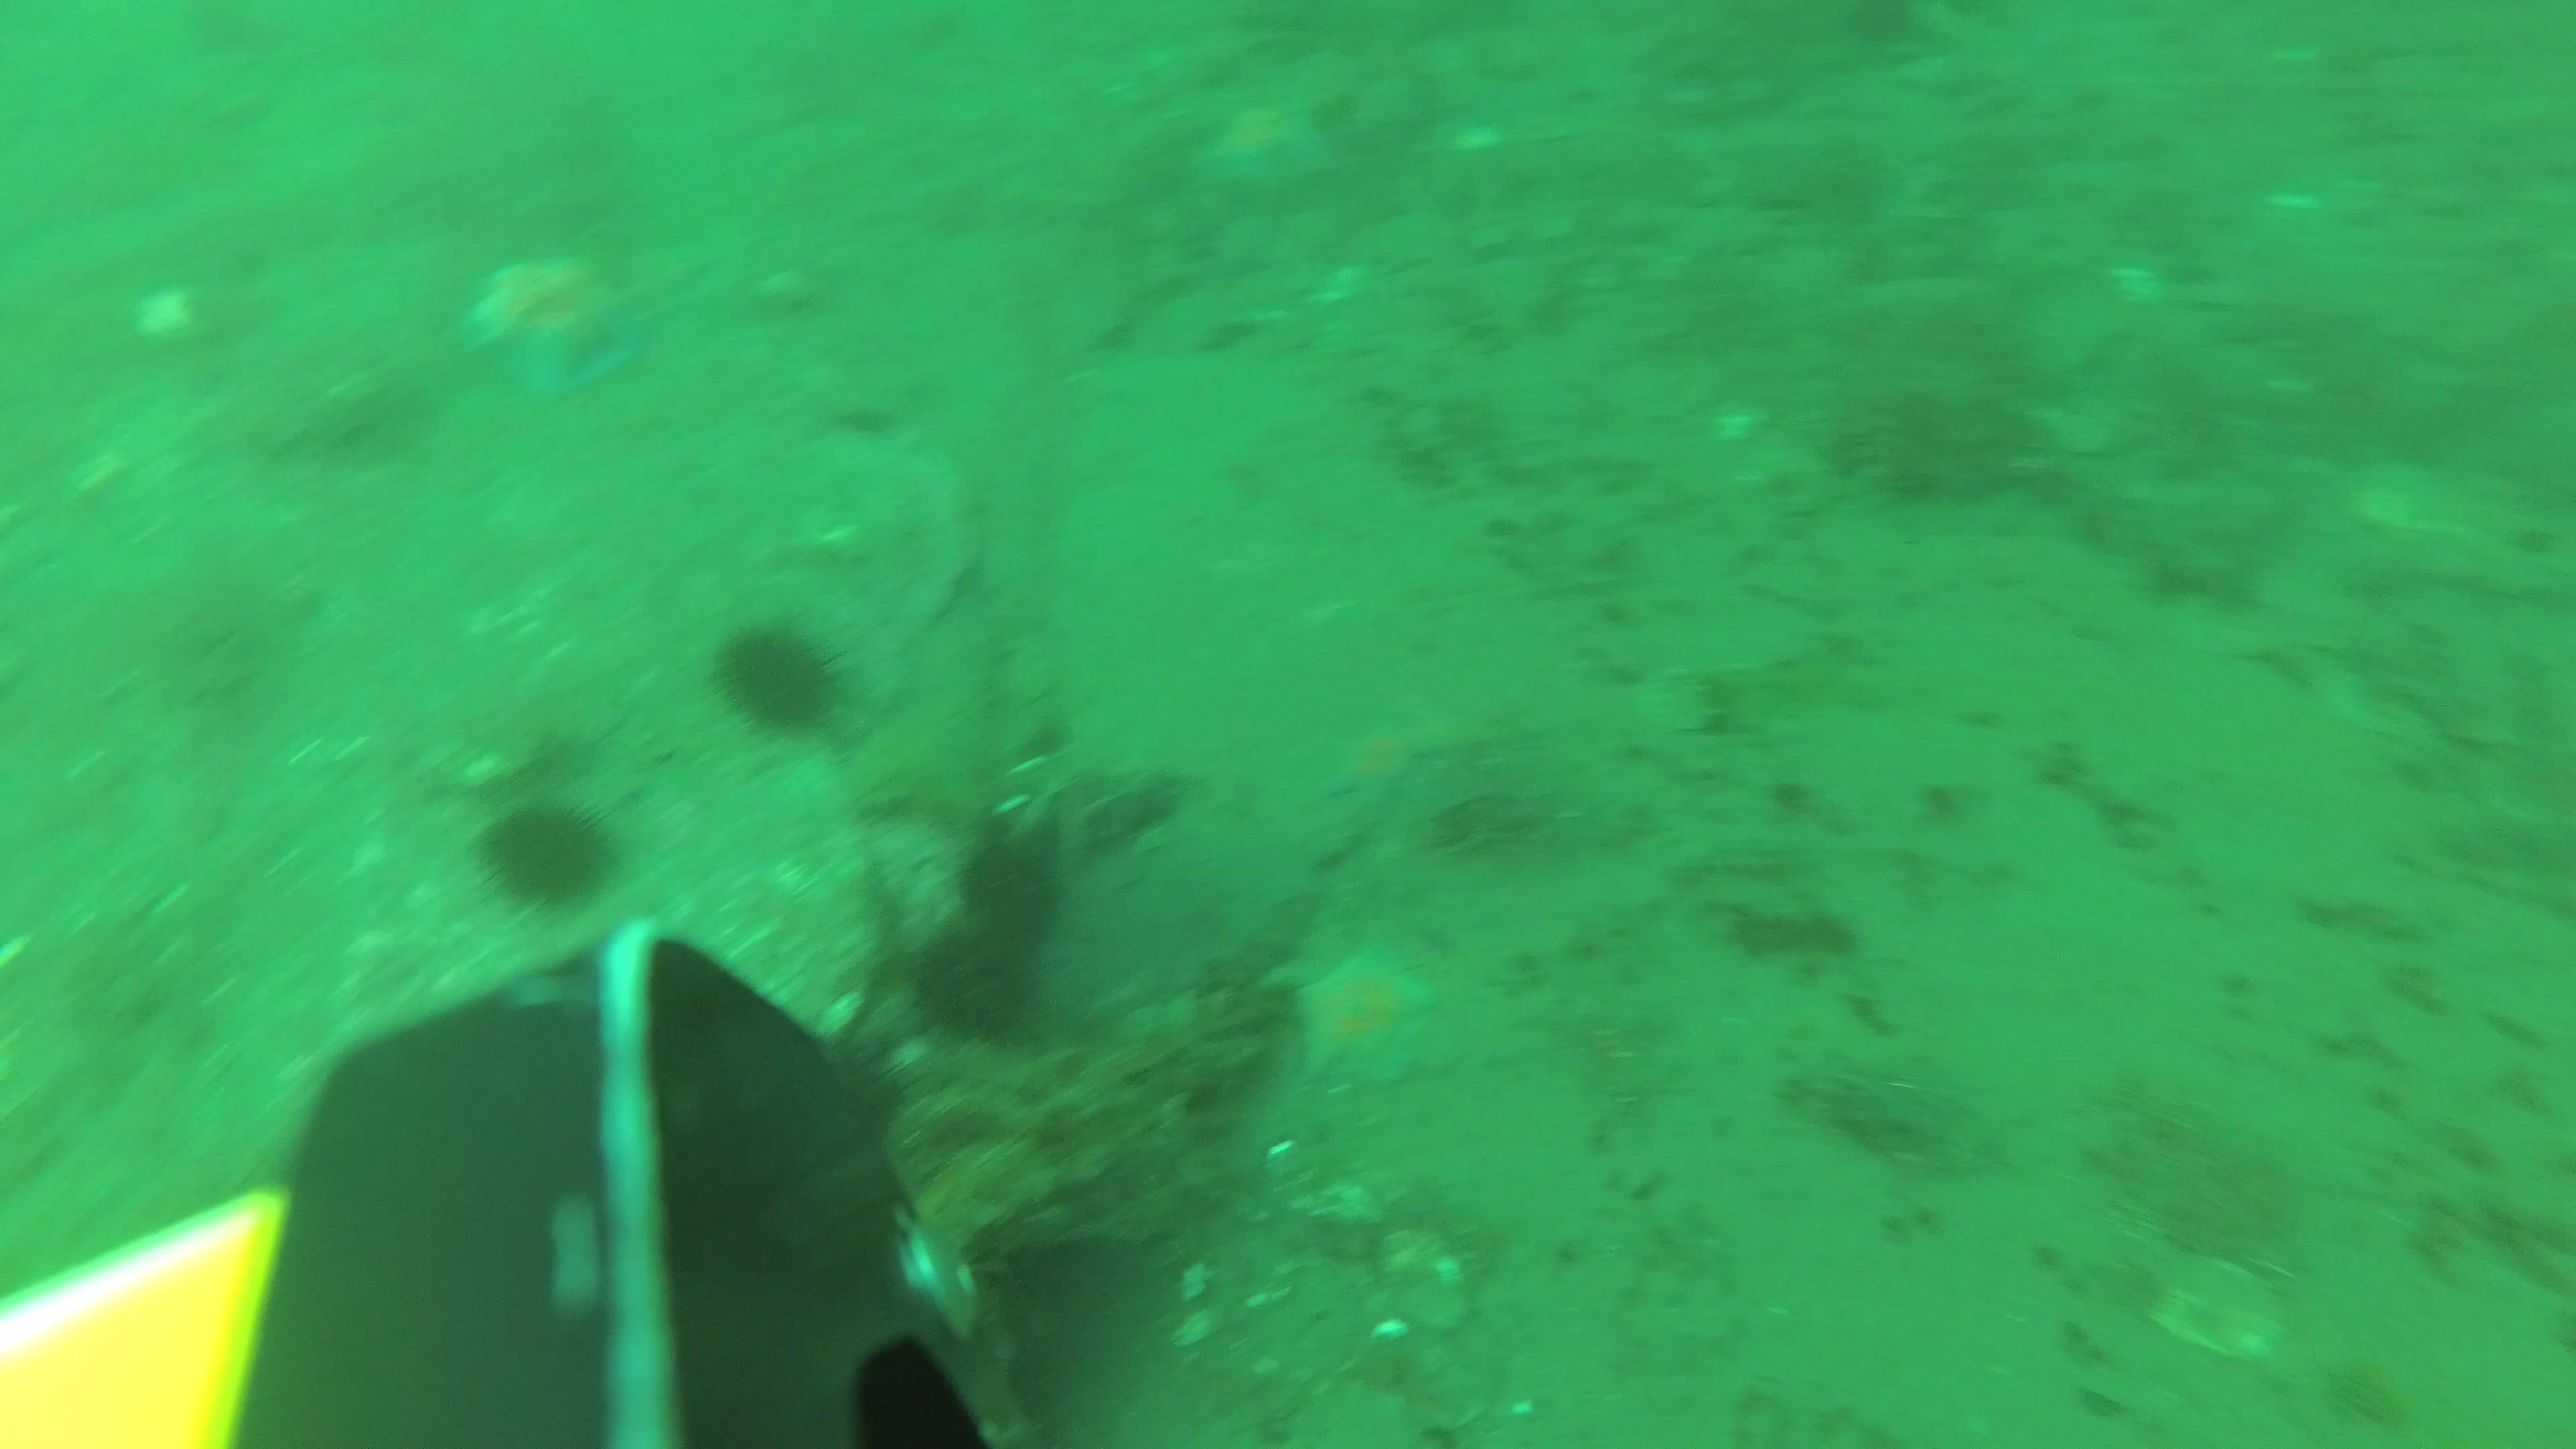echinus: (711, 623, 855, 736), (479, 798, 619, 913), (918, 929, 1035, 1046), (964, 837, 1070, 945)
scallop: (2157, 1251, 2284, 1368)
starfish: (465, 258, 644, 403), (1302, 941, 1442, 1093), (1200, 103, 1332, 207), (1320, 722, 1426, 824)
